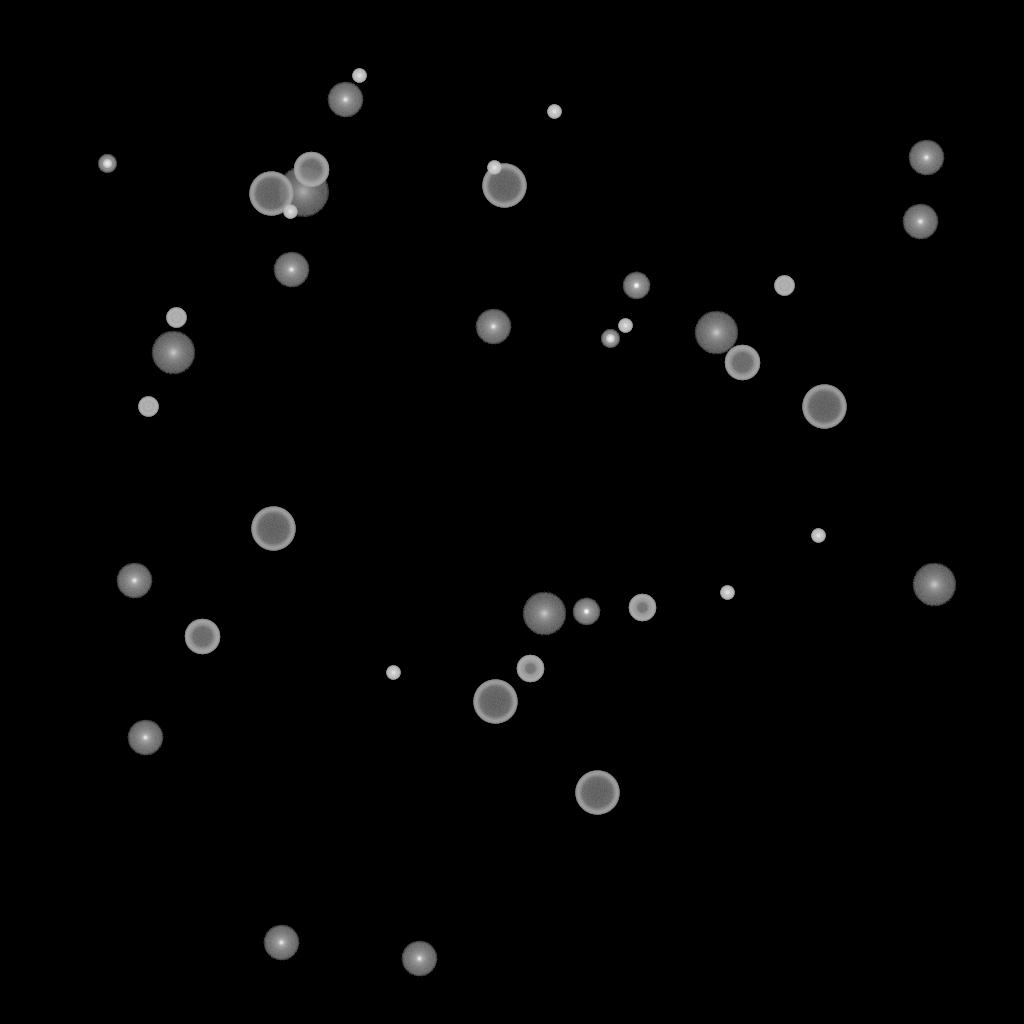depth:-10: (572, 598, 600, 626), (622, 272, 650, 300)
depth:-20: (98, 155, 116, 173), (601, 330, 619, 348)
depth:-30: (283, 205, 297, 219), (386, 666, 400, 680), (352, 69, 366, 83), (720, 586, 734, 600), (487, 161, 501, 175), (547, 105, 561, 119), (618, 319, 632, 333), (811, 529, 825, 543)
depth:-40: (774, 276, 794, 296), (138, 397, 158, 417), (166, 308, 186, 328)
depth:-50: (628, 594, 656, 622), (516, 655, 544, 683)
depth:-60: (184, 619, 220, 655), (293, 152, 329, 188), (724, 345, 760, 381)
depth:-70: (251, 507, 295, 551), (473, 680, 517, 724), (249, 172, 293, 216), (482, 164, 526, 208), (575, 771, 619, 815), (802, 385, 846, 429)
depth:0: (116, 563, 152, 599), (273, 252, 309, 288), (902, 204, 938, 240), (127, 720, 163, 756), (908, 140, 944, 176), (401, 941, 437, 977), (263, 925, 299, 961), (475, 309, 511, 345), (327, 82, 363, 118)
depth:10: (694, 311, 738, 355), (151, 331, 195, 375), (522, 592, 566, 636), (912, 563, 956, 607)
depth:20: (277, 167, 329, 217)
